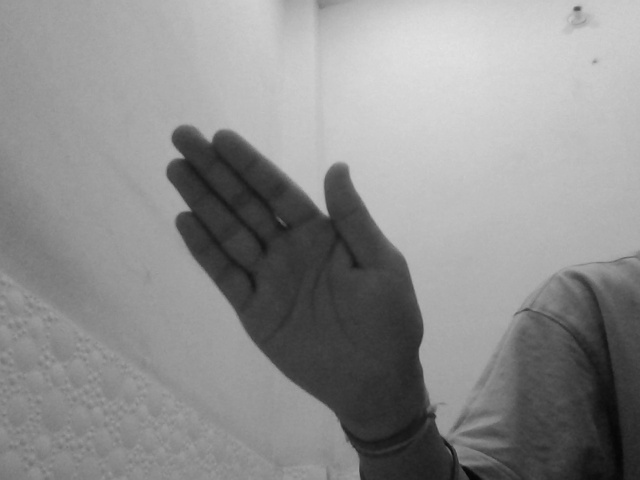Hello: (164, 119, 430, 421)
